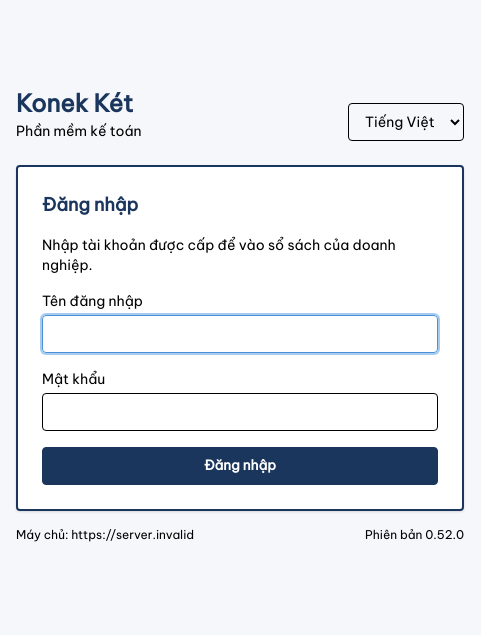
luồng đăng nhập › mật khẩu tạm đưa thẳng tới màn hình đổi mật khẩu
Type "ke_toan" into the field labelled "Tên đăng nhập" at (240, 334), box [42, 315, 438, 353]
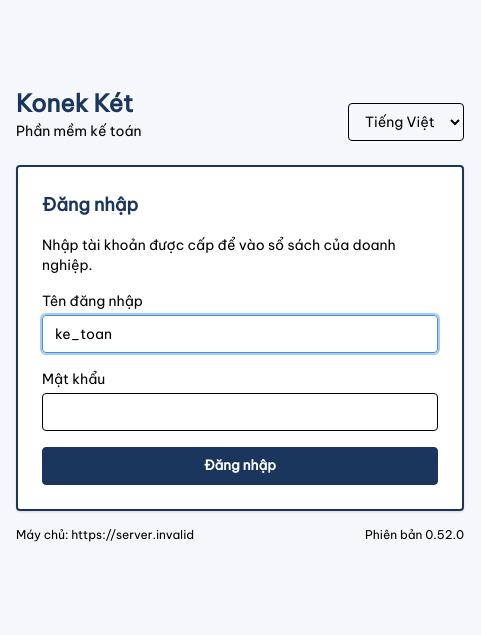
Type "mat-khau-dung" into the password field labelled "Mật khẩu" at (240, 412), box [42, 393, 438, 431]
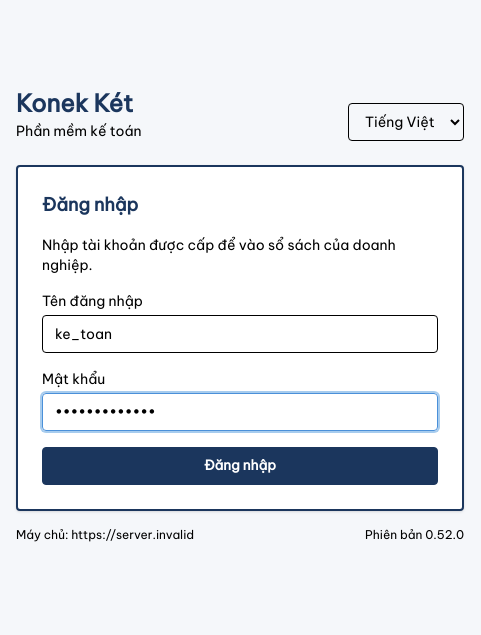
Click the button "Đăng nhập" at (240, 466), box [42, 447, 438, 485]
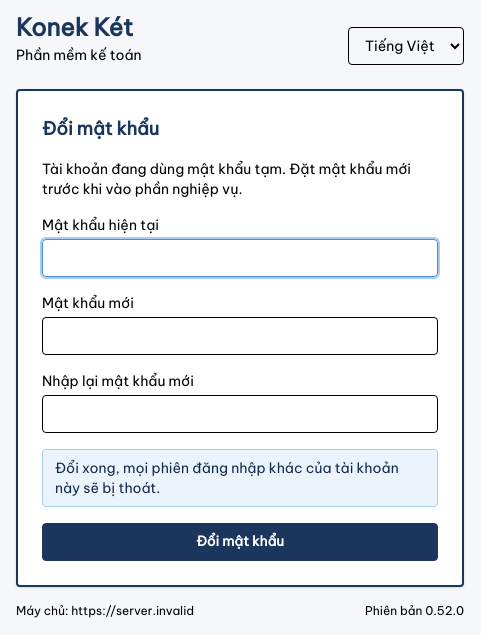
Check: the heading "Đổi mật khẩu" is shown, box [42, 117, 159, 140]
